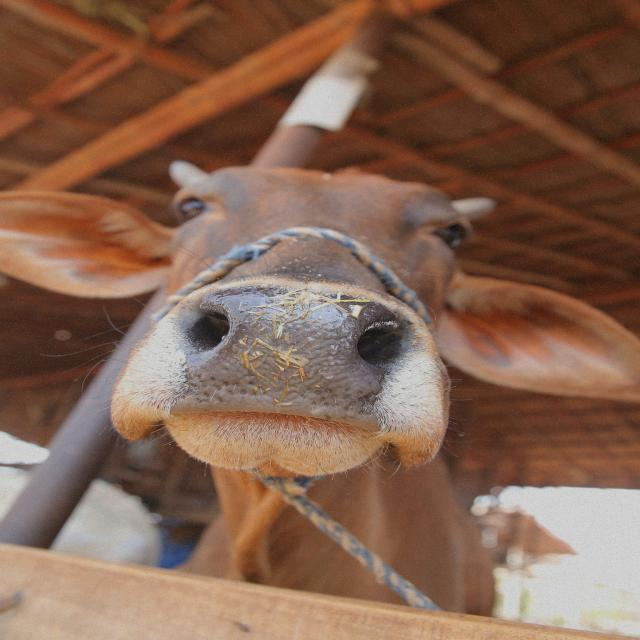muzzles: (164, 284, 411, 436)
